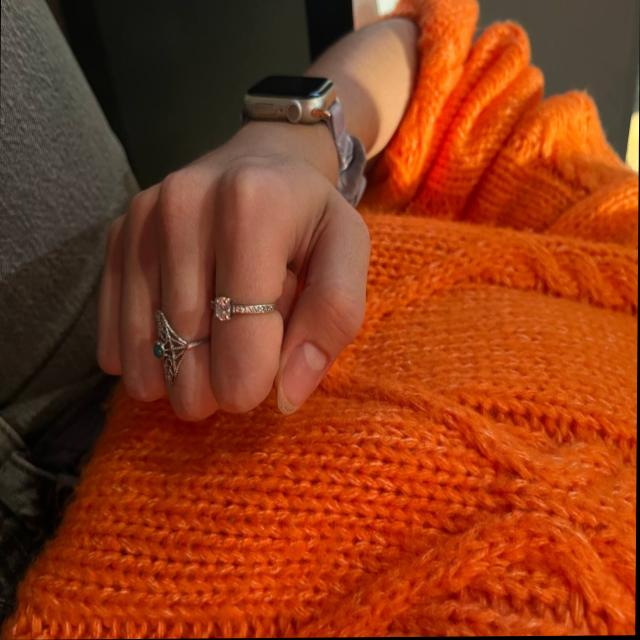a: (83, 162, 381, 440)
